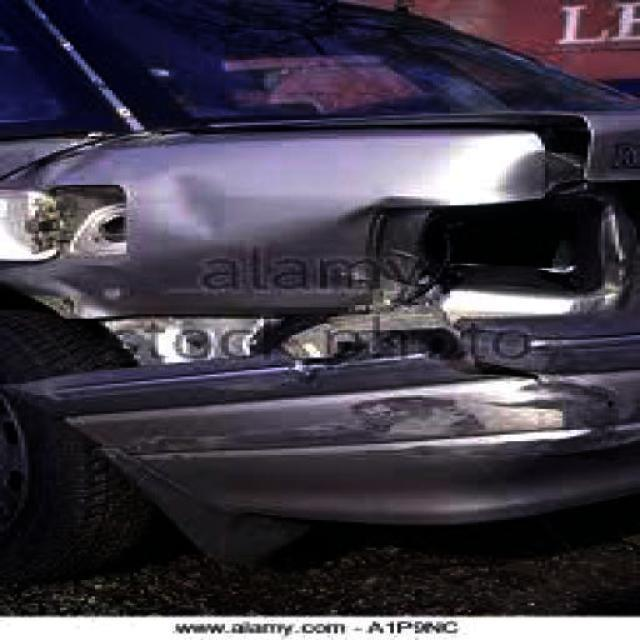car damage: (17, 108, 640, 575)
